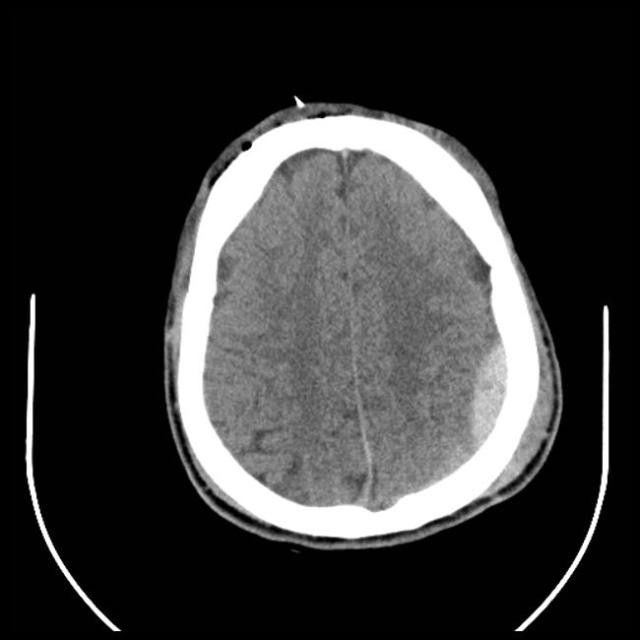lesion: (159, 95, 564, 550)
